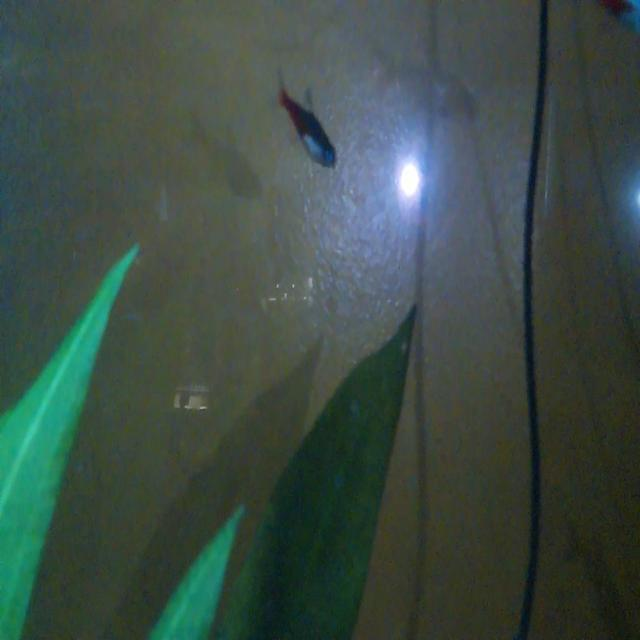fish: (272, 73, 346, 188)
